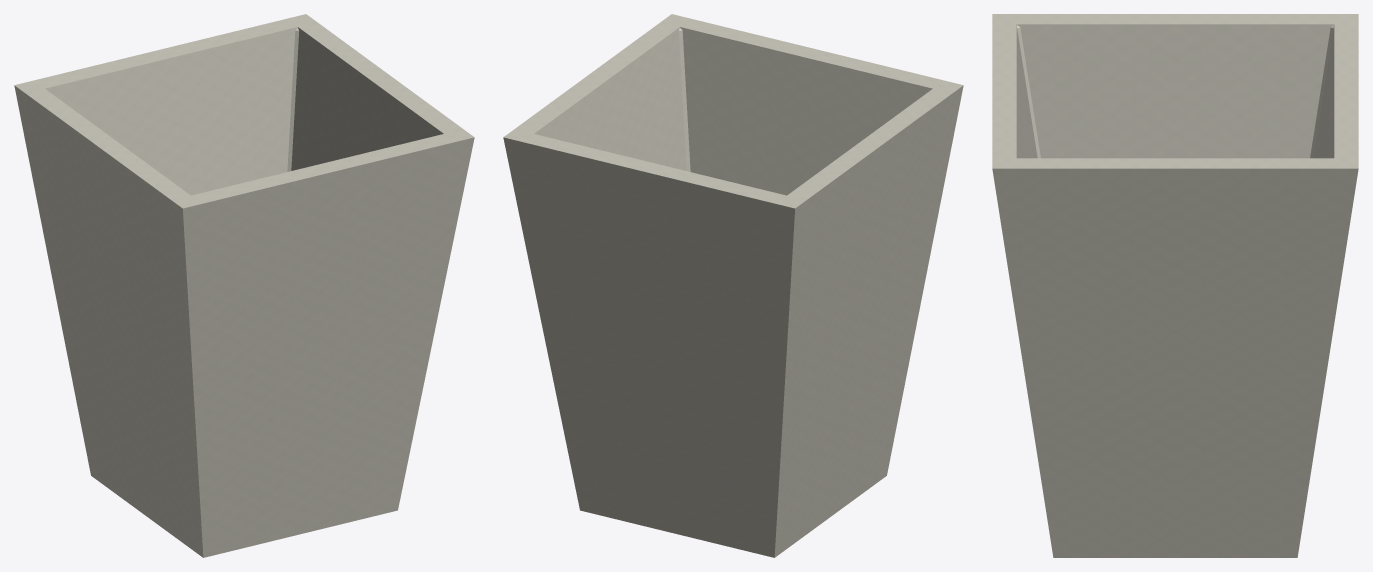
File: MV_Planter_Square_Tall.fbx
3 views of the same model, side by side, from view 1: azimuth 30°, elevation 25°; view 2: azimuth 150°, elevation 25°; view 3: azimuth 270°, elevation 25° (orthographic). The views are drawn at different scales.
Parts seen in each view (by area): view 1: LOD2_Mesh, LOD0_Mesh, LOD1_Mesh; view 2: LOD2_Mesh, LOD0_Mesh, LOD1_Mesh; view 3: LOD0_Mesh, LOD2_Mesh, LOD1_Mesh.
Boxes of the visible parts, bbox=[...] form: LOD2_Mesh: bbox=[14, 14, 474, 557]; LOD0_Mesh: bbox=[20, 16, 471, 554]; LOD1_Mesh: bbox=[20, 17, 465, 205]; LOD2_Mesh: bbox=[503, 14, 963, 557]; LOD0_Mesh: bbox=[507, 16, 957, 554]; LOD1_Mesh: bbox=[509, 18, 957, 205]; LOD0_Mesh: bbox=[995, 15, 1355, 555]; LOD2_Mesh: bbox=[992, 14, 1358, 557]; LOD1_Mesh: bbox=[996, 15, 1353, 167].
Bounding box in the file's own units: 0.6 × 0.75 × 0.6.
